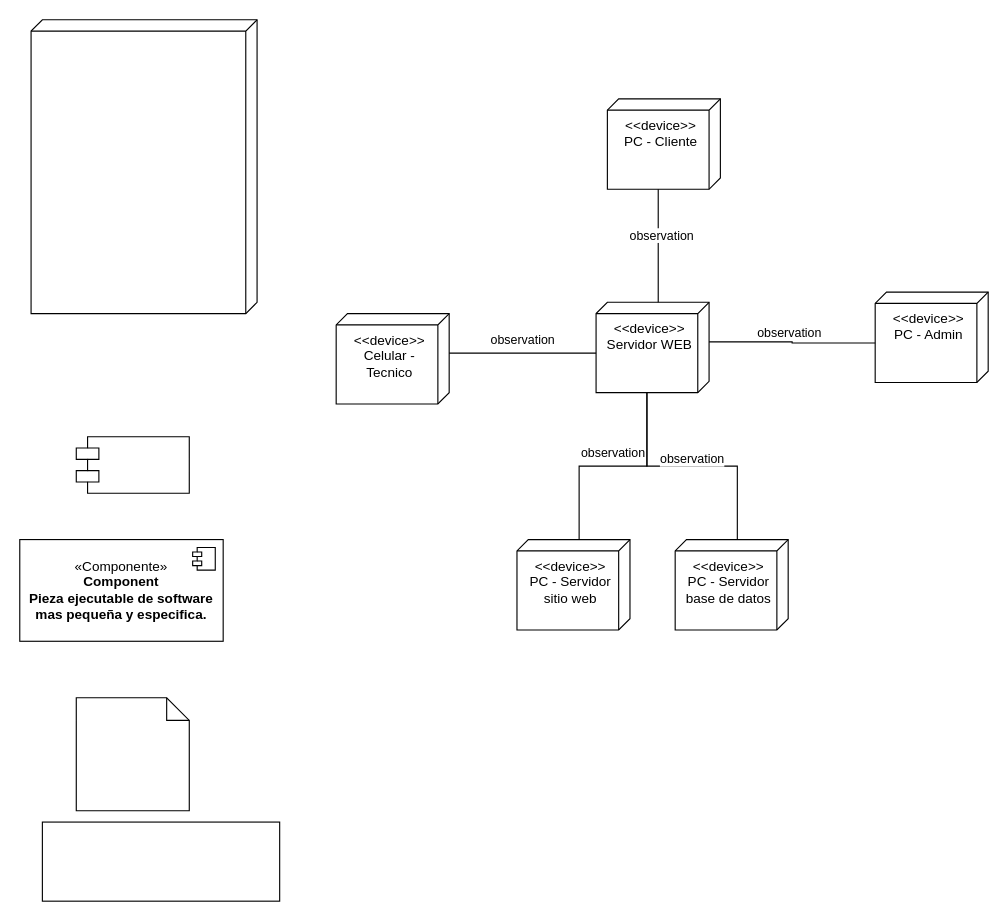
Image size: 1008x921. Some labels were removed from this diagram. The shapes that lost their labels are listed below. From the top down, each one's centre as x and y in pixels, then its label:
pixel 143 166: DeploymentTarget1
pixel 132 464: Module
pixel 132 754: Note
pixel 160 861: <<artifact>> Elementos que se van a ejecutar. Software mas completo.
